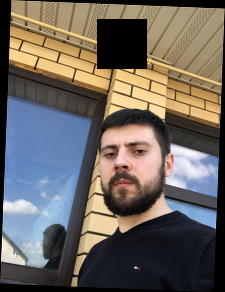without_mask: (99, 135, 163, 215)
